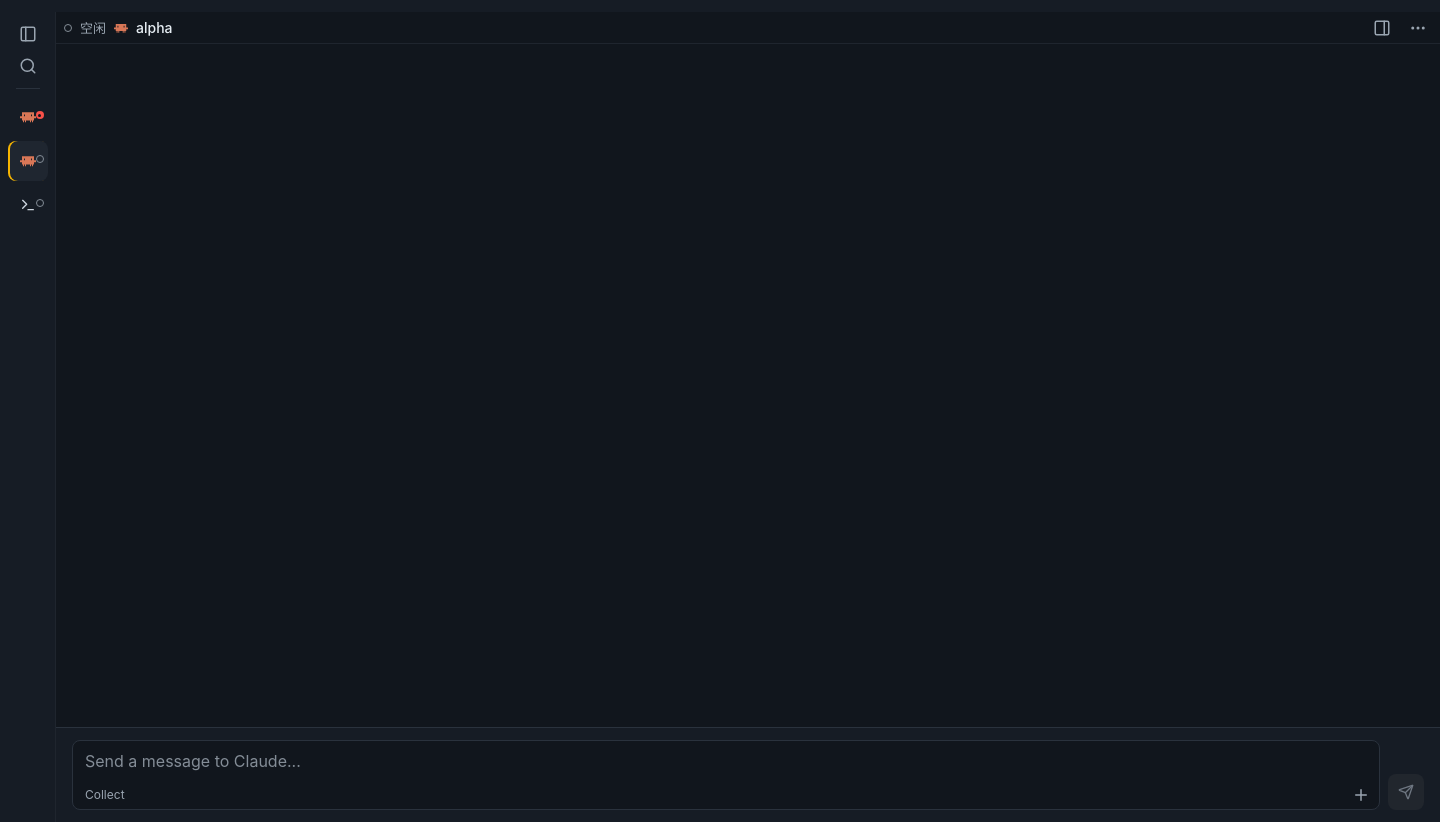
Test: AppShell › md–lg: the triage column collapses to a 56px icon rail that still selects
Step 1. Click the button named "shell" → (28, 205), box [8, 185, 48, 225]
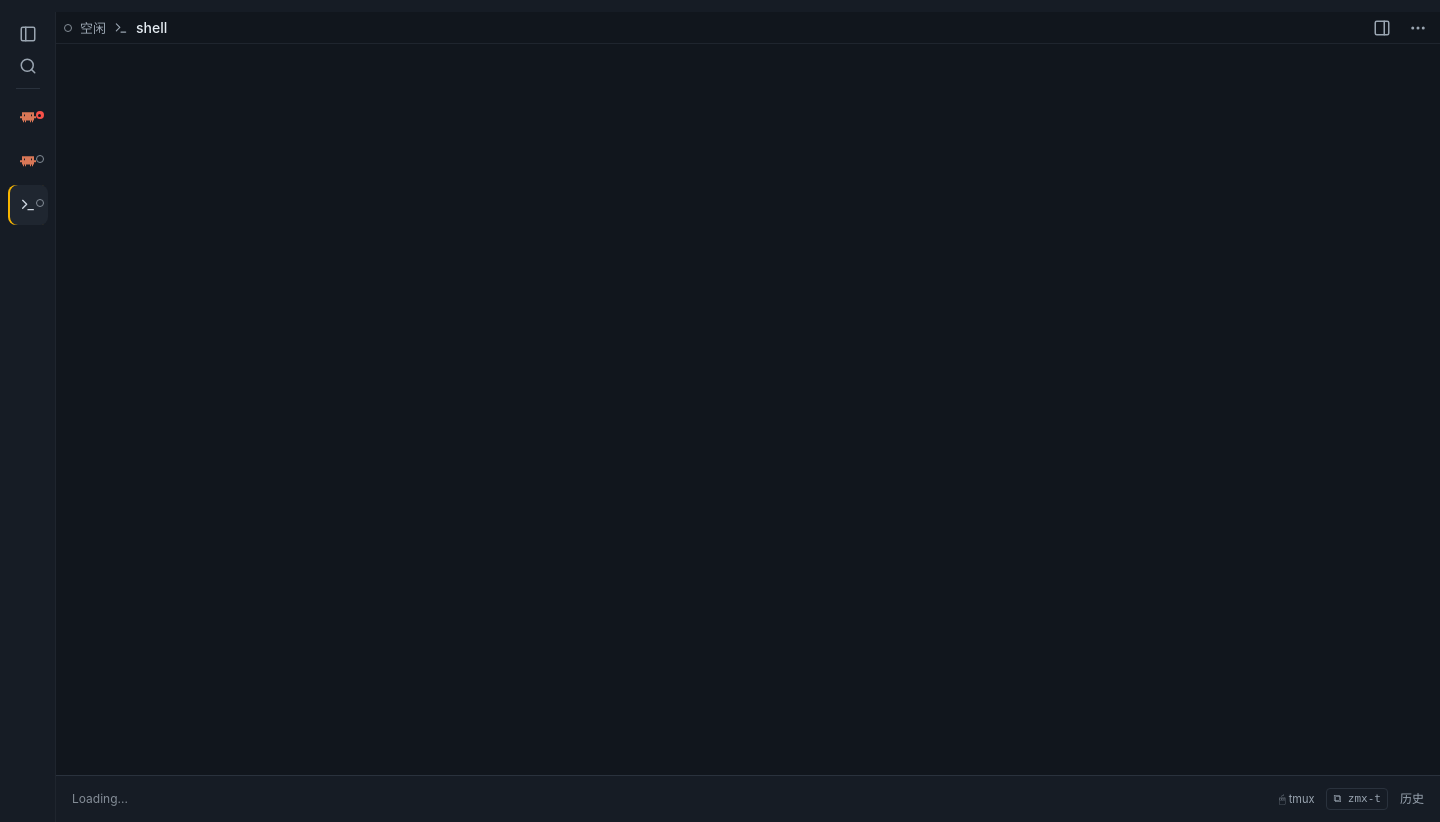
Step 2. Click the button named "展开会话列表" → (28, 34), box [14, 20, 42, 48]
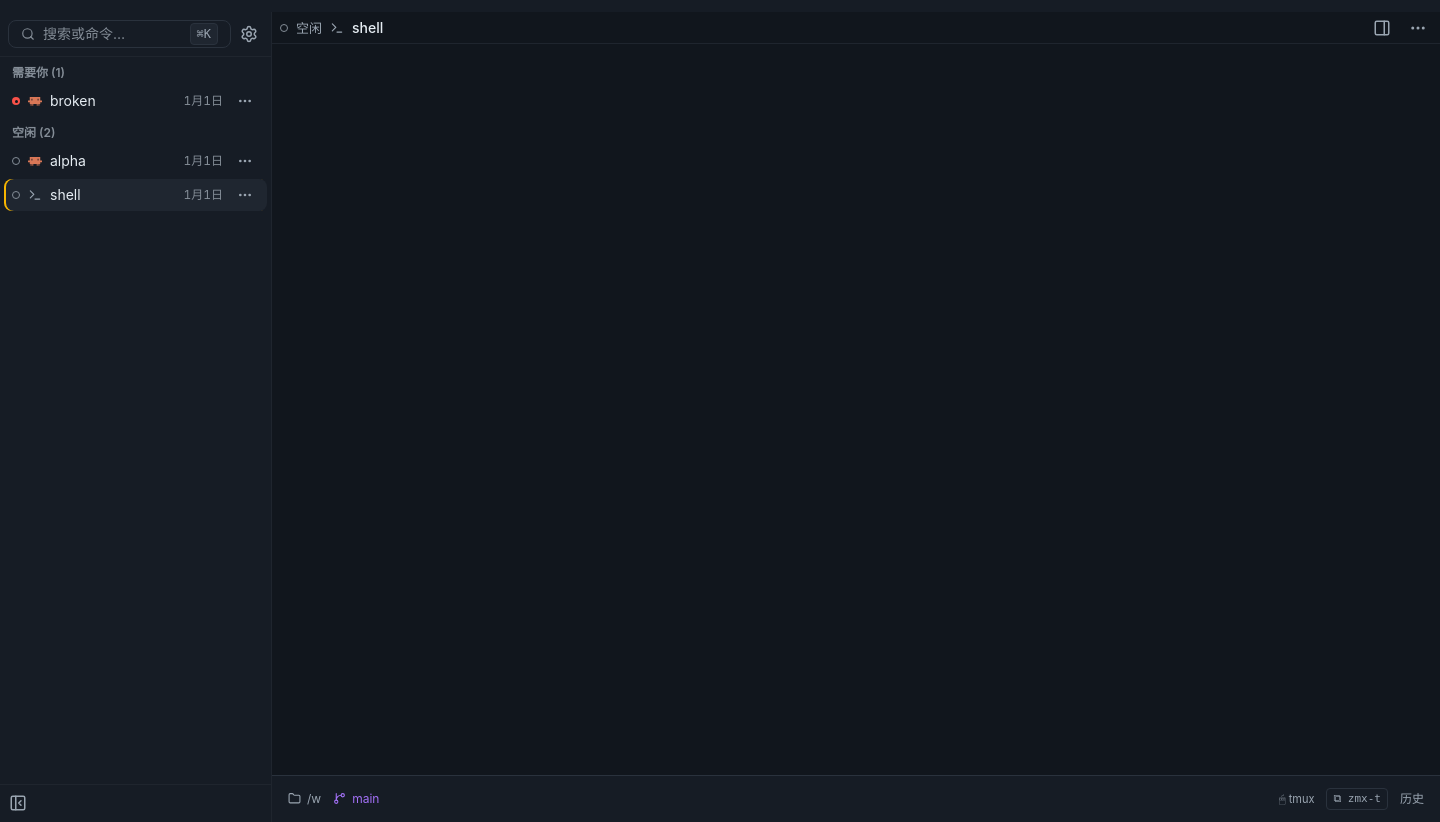
Result: the text "alpha" is shown at [50, 152, 86, 169]
